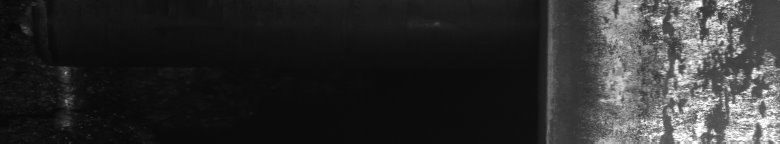kb: (591, 4, 776, 136)
